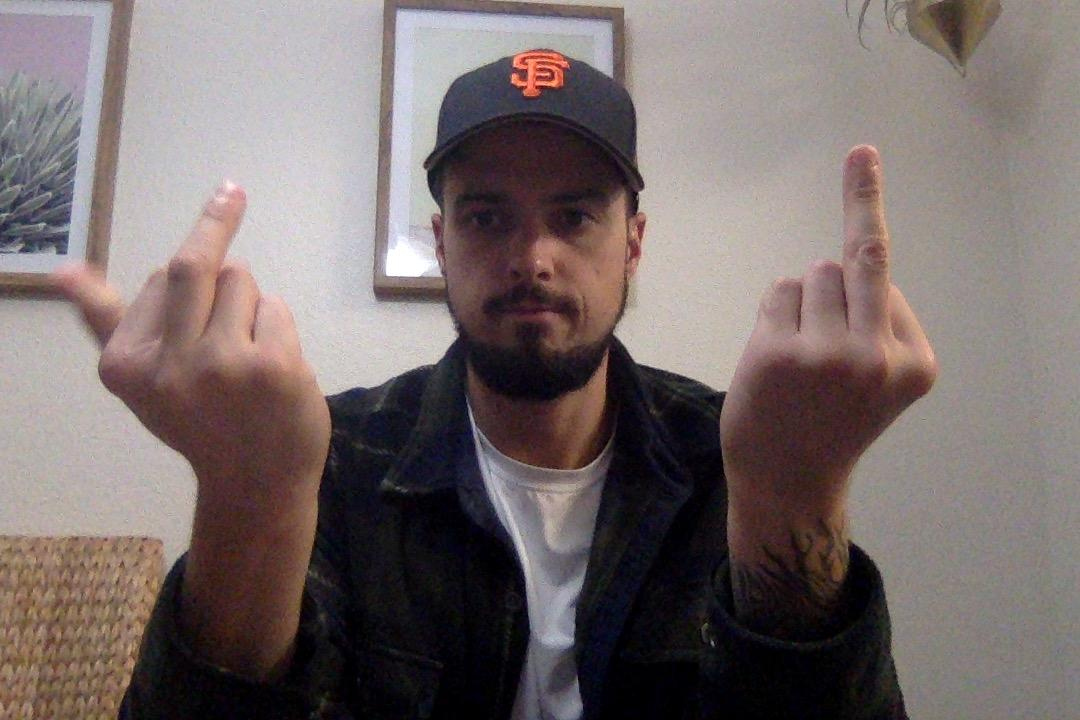Middle: (48, 173, 339, 474), (703, 140, 944, 474)
